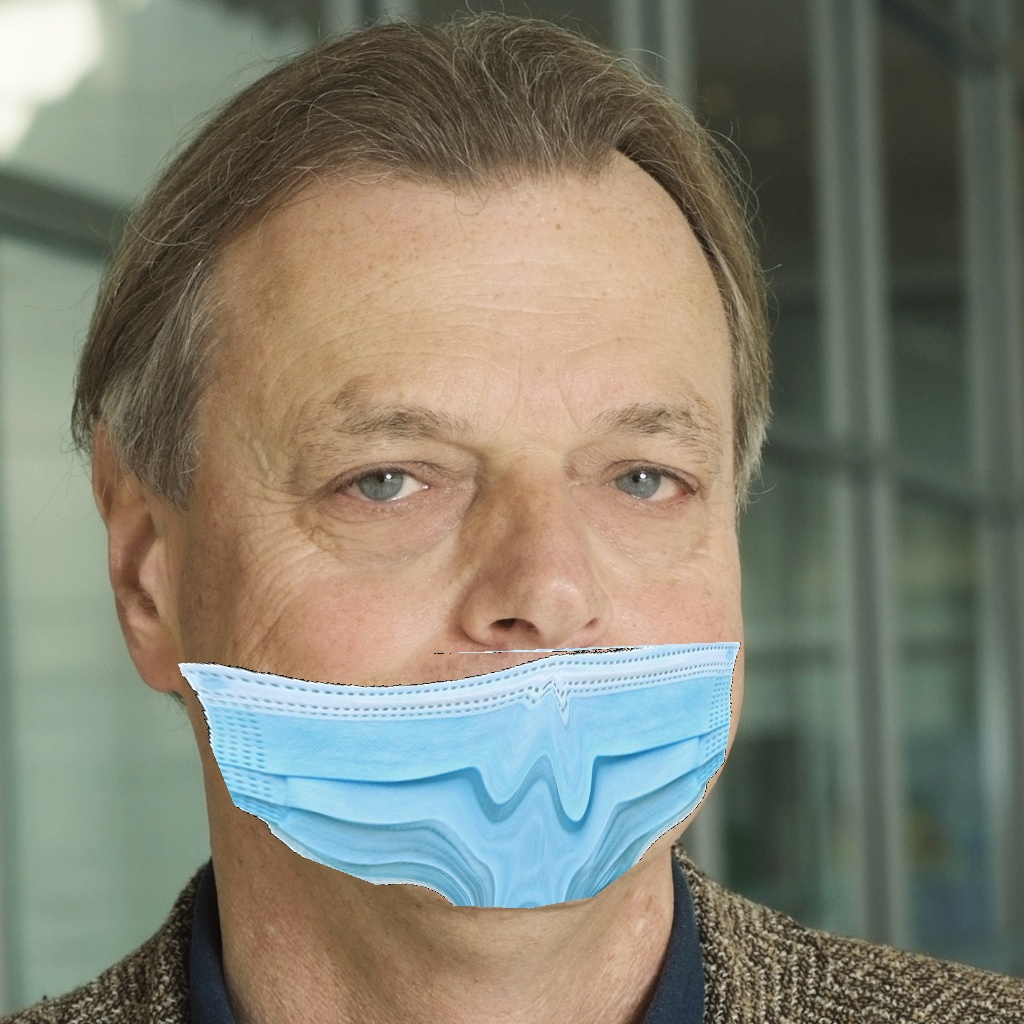mask_weared_incorrect: (145, 359, 771, 933)
